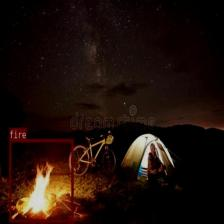fire: (9, 138, 73, 222)
